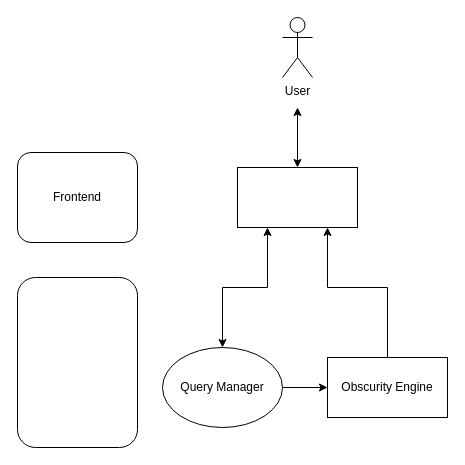
Some shapes in this 465 by 465 pixel diagram are drawn without their labels. Each missing label, with the centre of its shape:
"Backend Processes" goes at [77,362].
"UI" goes at [297,197].
